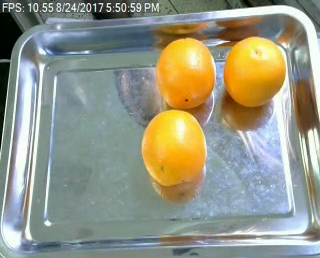Orange: (143, 108, 208, 186), (224, 37, 286, 108), (155, 38, 216, 109)
